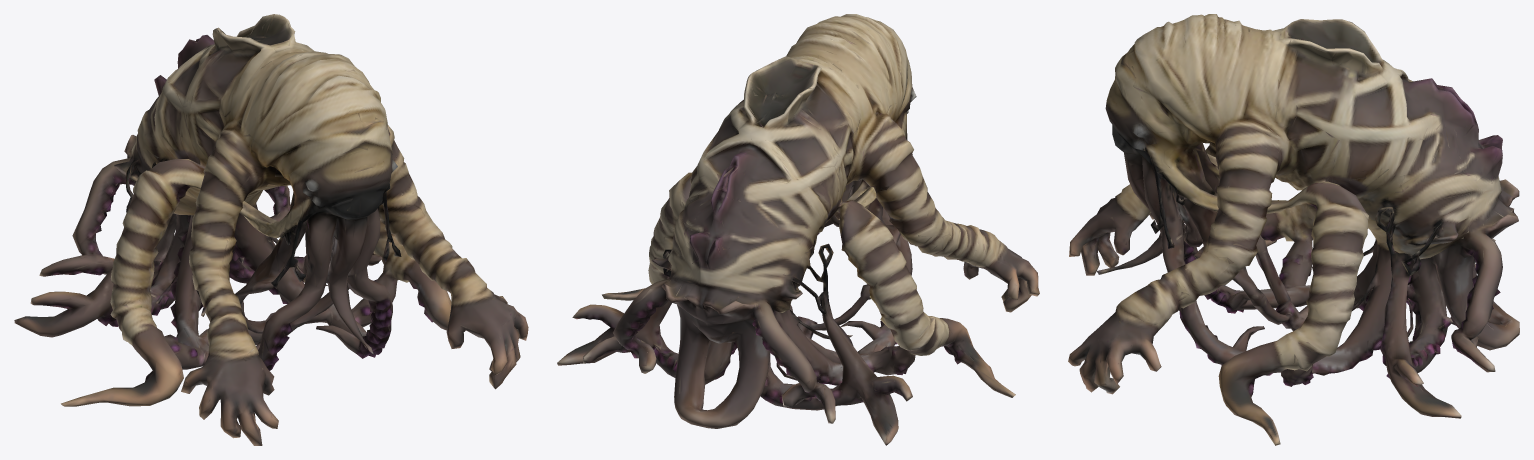
Rendered from Quopopak Mummy_final.glb.
The picture shows the model from 3 angles, left to right: view 1: azimuth 30°, elevation 25°; view 2: azimuth 150°, elevation 25°; view 3: azimuth 270°, elevation 25°; orthographic projection. The views are drawn at different scales.
Parts seen in each view (by area): view 1: Mesh1.0; view 2: Mesh1.0; view 3: Mesh1.0.
Boxes of the visible parts, left/top/right/bottom form: Mesh1.0: left=14, top=14, right=528, bottom=445; Mesh1.0: left=557, top=14, right=1039, bottom=445; Mesh1.0: left=1068, top=14, right=1519, bottom=445.
Bounding box in the file's own units: 2.84 × 2 × 2.53.
Materials: 1 (1 with a texture image).
